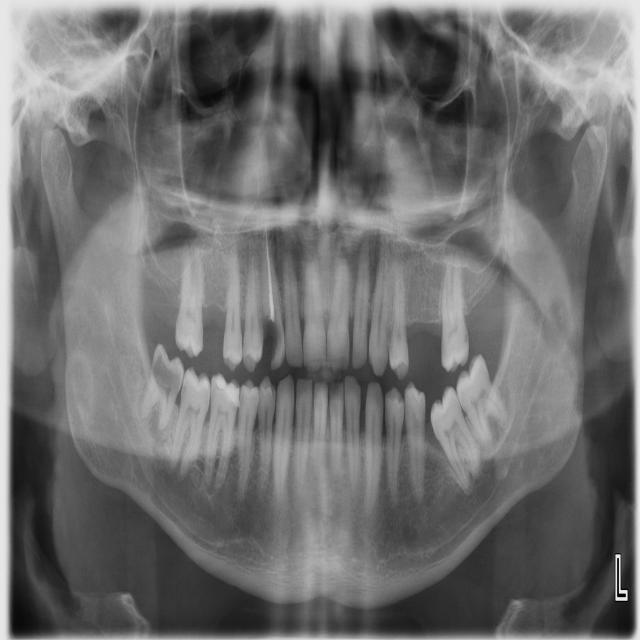mandibula: (40, 120, 608, 605)
